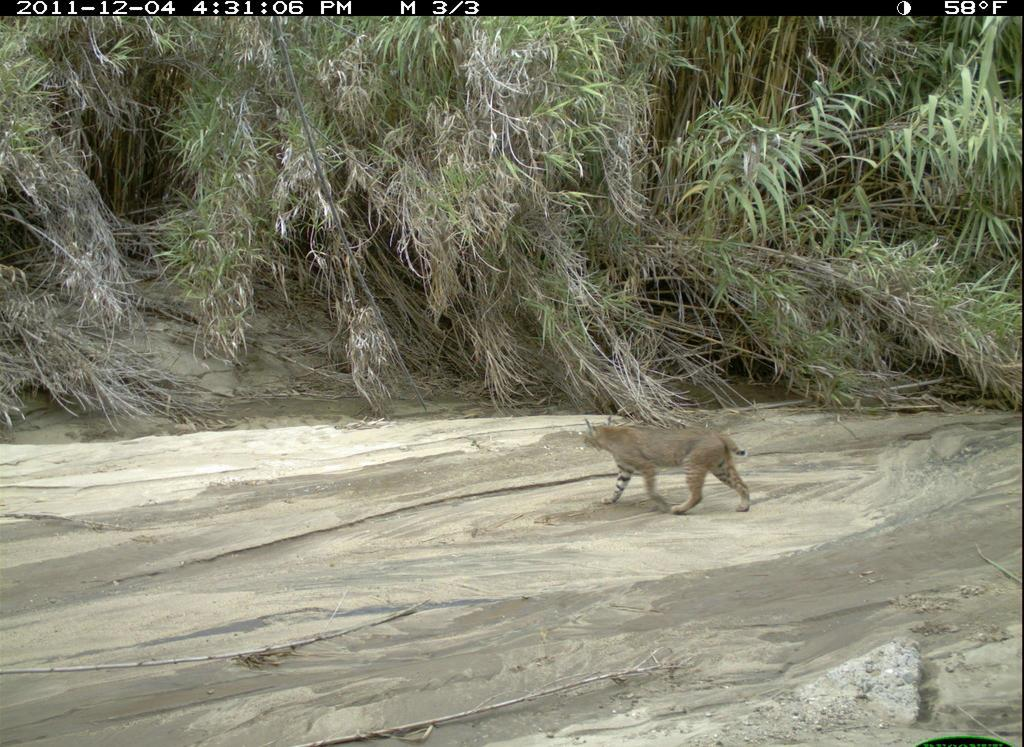bobcat: (573, 411, 761, 524)
